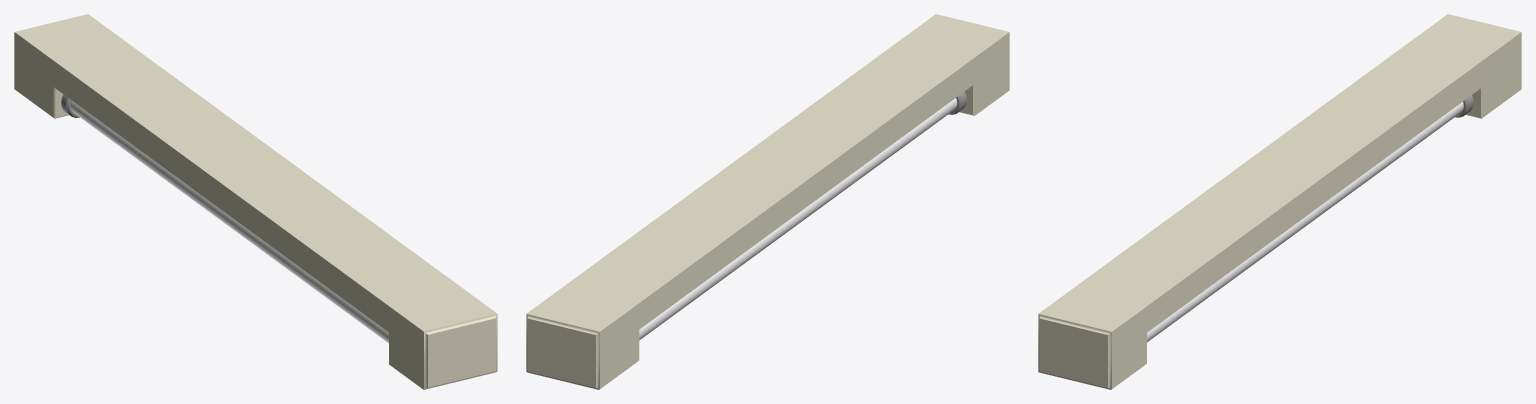
File: Light_Draft.fbx
3 renders of one model, left to right at view 1: azimuth 30°, elevation 25°; view 2: azimuth 150°, elevation 25°; view 3: azimuth 330°, elevation 25°, orthographic.
Visible parts, largest first — view 1: pCube1, pCylinder7; view 2: pCube1, pCylinder7; view 3: pCube1, pCylinder3.
Part boxes in pixels (bbox=[...]): pCube1: bbox=[14, 14, 497, 389]; pCylinder7: bbox=[61, 94, 388, 343]; pCube1: bbox=[526, 14, 1009, 389]; pCylinder7: bbox=[639, 91, 966, 340]; pCube1: bbox=[1038, 14, 1521, 389]; pCylinder3: bbox=[1147, 95, 1473, 342].
Size of the model in its own units: 11.63 by 8.79 by 113.
